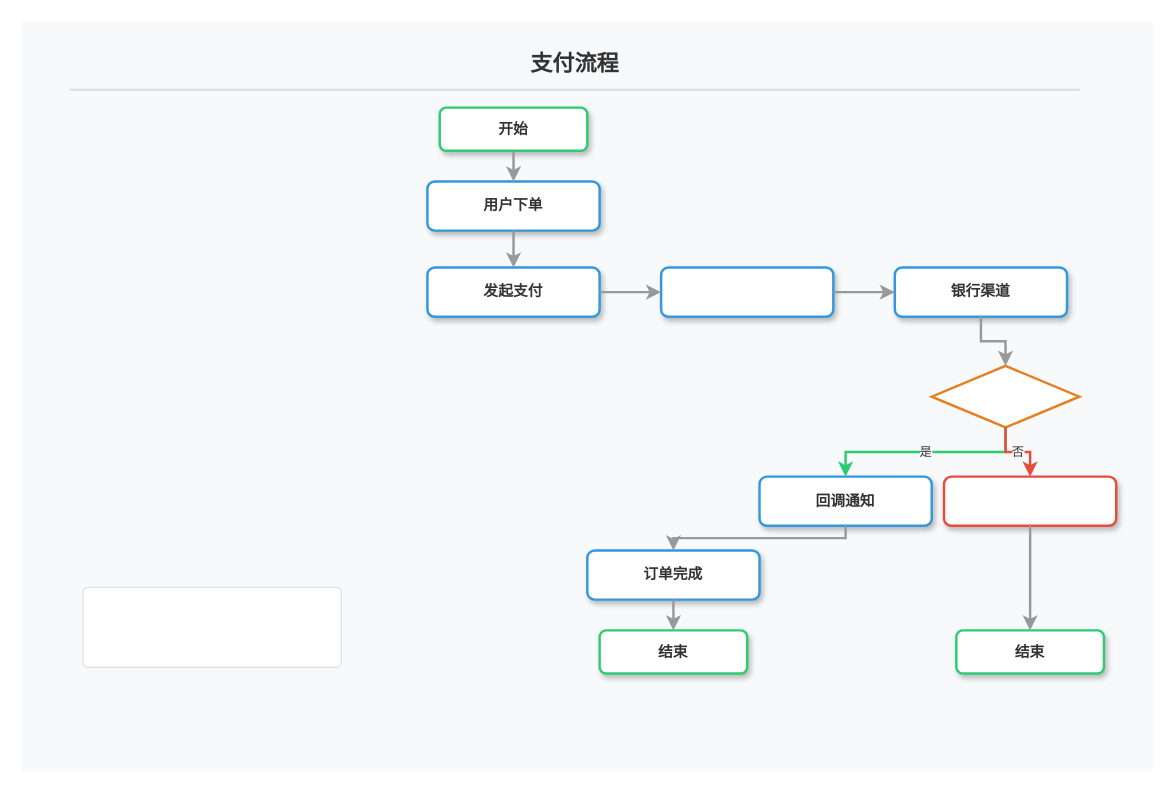
Some shapes in this 1173 by 792 pixel diagram are drawn without their labels. The centre of each missing label's shape, as x and y in pixels:
"图例说明 ━━━━━━━━━ ■ 主流程(蓝色) ■ 成功(绿色) ■ 失败(红色) ■ 判断(橙色)" belongs at (x=211, y=626).
"支付失败" belongs at (x=1030, y=502).
"支付成功?" belongs at (x=1005, y=396).
"支付网关" belongs at (x=747, y=293).
